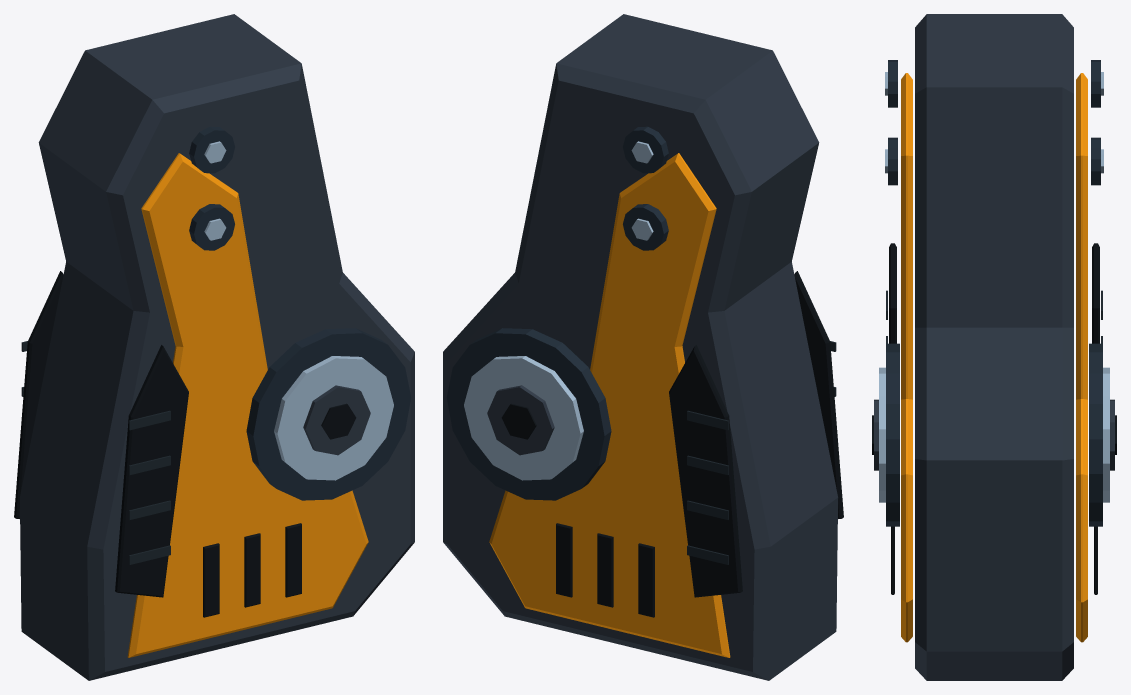
Rendered from RulerChainsaw_Drive.obj.
3 renders of one model, left to right at view 1: azimuth 30°, elevation 25°; view 2: azimuth 150°, elevation 25°; view 3: azimuth 270°, elevation 25°, orthographic.
Visible parts, largest first — view 1: Housing, BladeYellow, Rubber, DarkSteel, Steel, GripRings; view 2: Housing, BladeYellow, Rubber, DarkSteel, Steel, GripRings; view 3: Housing, BladeYellow, DarkSteel, Rubber, Steel.
Boxes of the visible parts, bbox=[...] form: Housing: bbox=[19, 14, 414, 680]; BladeYellow: bbox=[127, 153, 368, 657]; Rubber: bbox=[14, 271, 356, 617]; DarkSteel: bbox=[189, 126, 411, 500]; Steel: bbox=[204, 141, 393, 480]; GripRings: bbox=[21, 341, 170, 564]; Housing: bbox=[443, 14, 838, 680]; BladeYellow: bbox=[489, 153, 730, 657]; Rubber: bbox=[501, 271, 843, 617]; DarkSteel: bbox=[446, 126, 668, 500]; Steel: bbox=[464, 141, 653, 480]; GripRings: bbox=[687, 341, 836, 564]; Housing: bbox=[874, 14, 1114, 680]; BladeYellow: bbox=[901, 73, 1087, 642]; DarkSteel: bbox=[886, 60, 1102, 526]; Rubber: bbox=[872, 243, 1116, 594]; Steel: bbox=[879, 72, 1109, 502].
Bounding box in the file's own units: 0.191 × 0.315 × 0.123.
